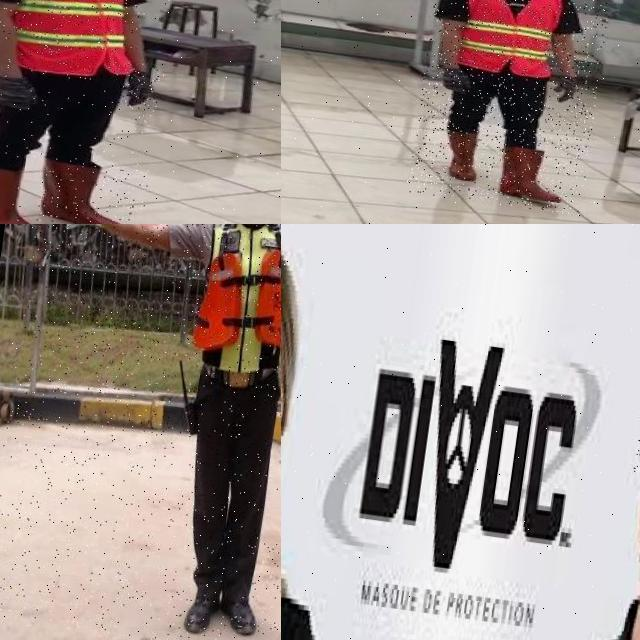boots: (34, 155, 151, 224), (500, 148, 574, 206), (0, 153, 58, 224), (219, 580, 266, 640), (182, 578, 226, 640), (438, 128, 482, 180)
vest: (188, 224, 281, 380), (0, 0, 151, 85), (455, 0, 563, 82)
